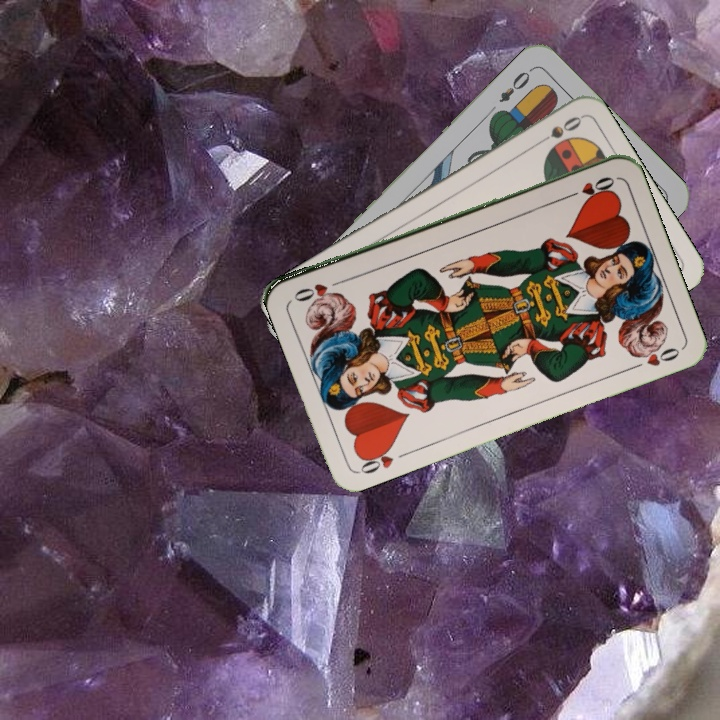EO: (495, 64, 536, 106)
HO: (561, 172, 618, 202), (354, 441, 396, 477)
SO: (530, 112, 585, 149)
